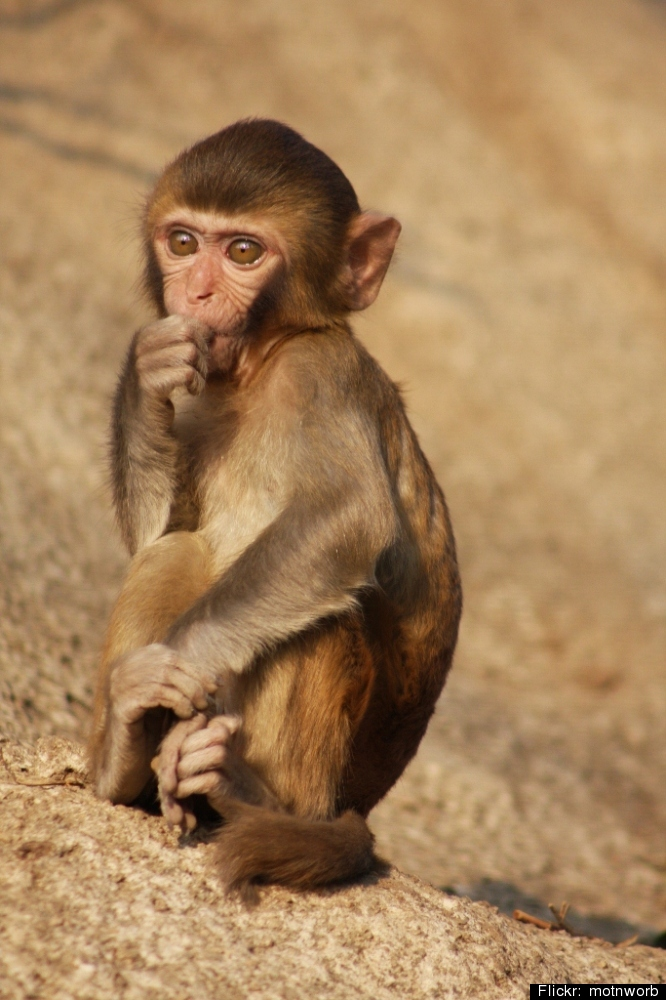monkey: (89, 117, 461, 894)
